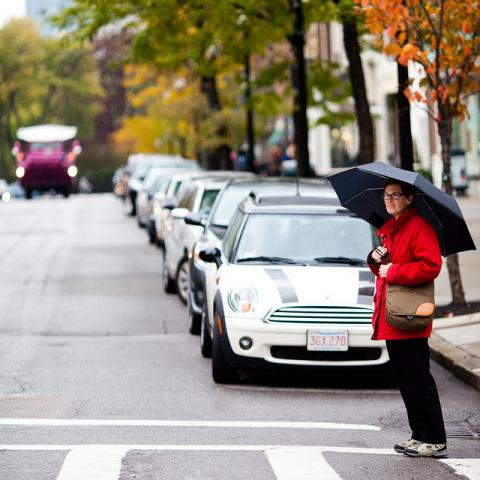bus: (13, 123, 81, 199)
car: (198, 193, 391, 385), (184, 177, 334, 331), (163, 175, 258, 307), (151, 171, 254, 246), (129, 166, 202, 241), (123, 154, 201, 216), (113, 154, 143, 198)
truck: (12, 123, 81, 198)
